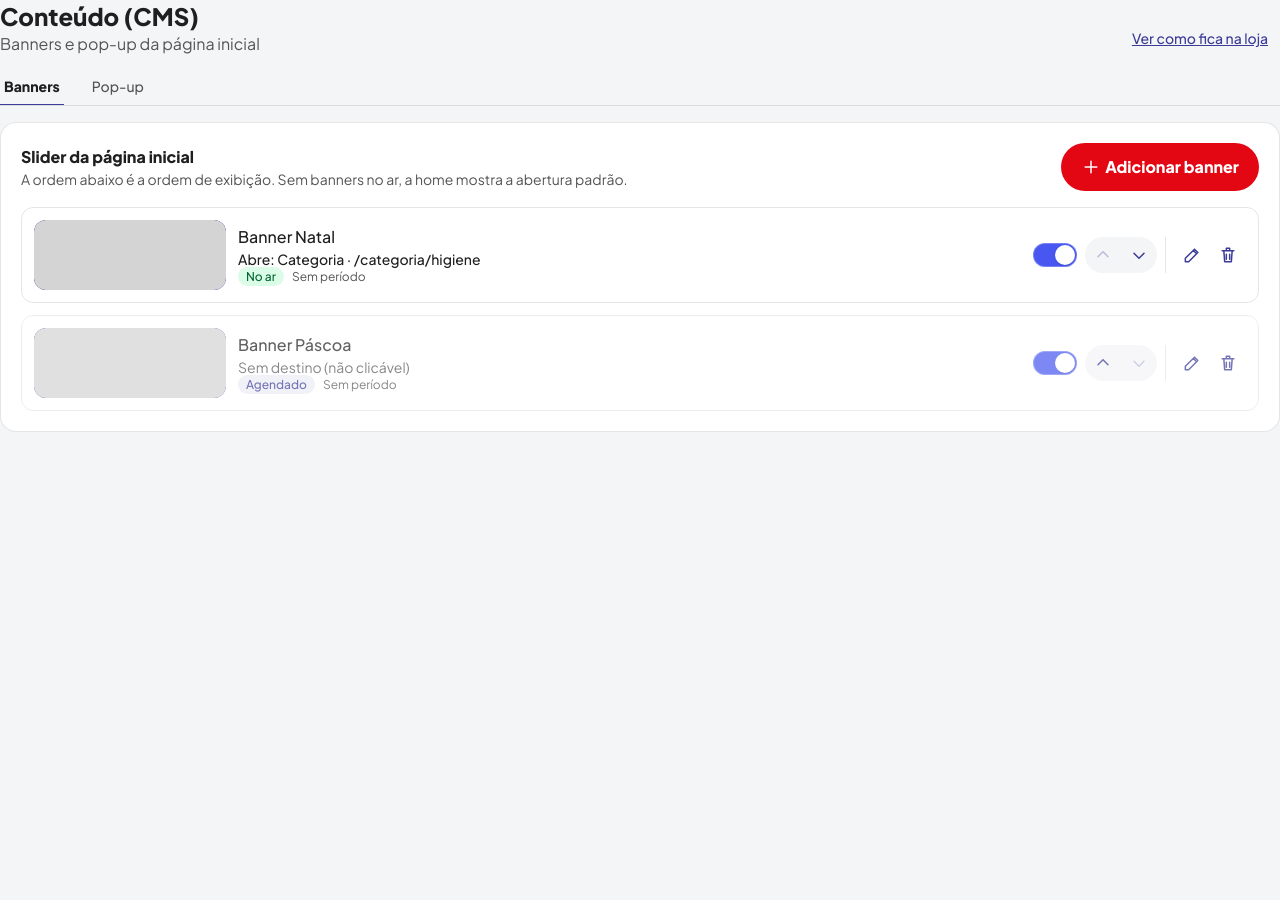
it: CMS: pop-up › situação Desligado ao lado do título
Click the tab "Pop-up": click(118, 91) [88,76,148,106]
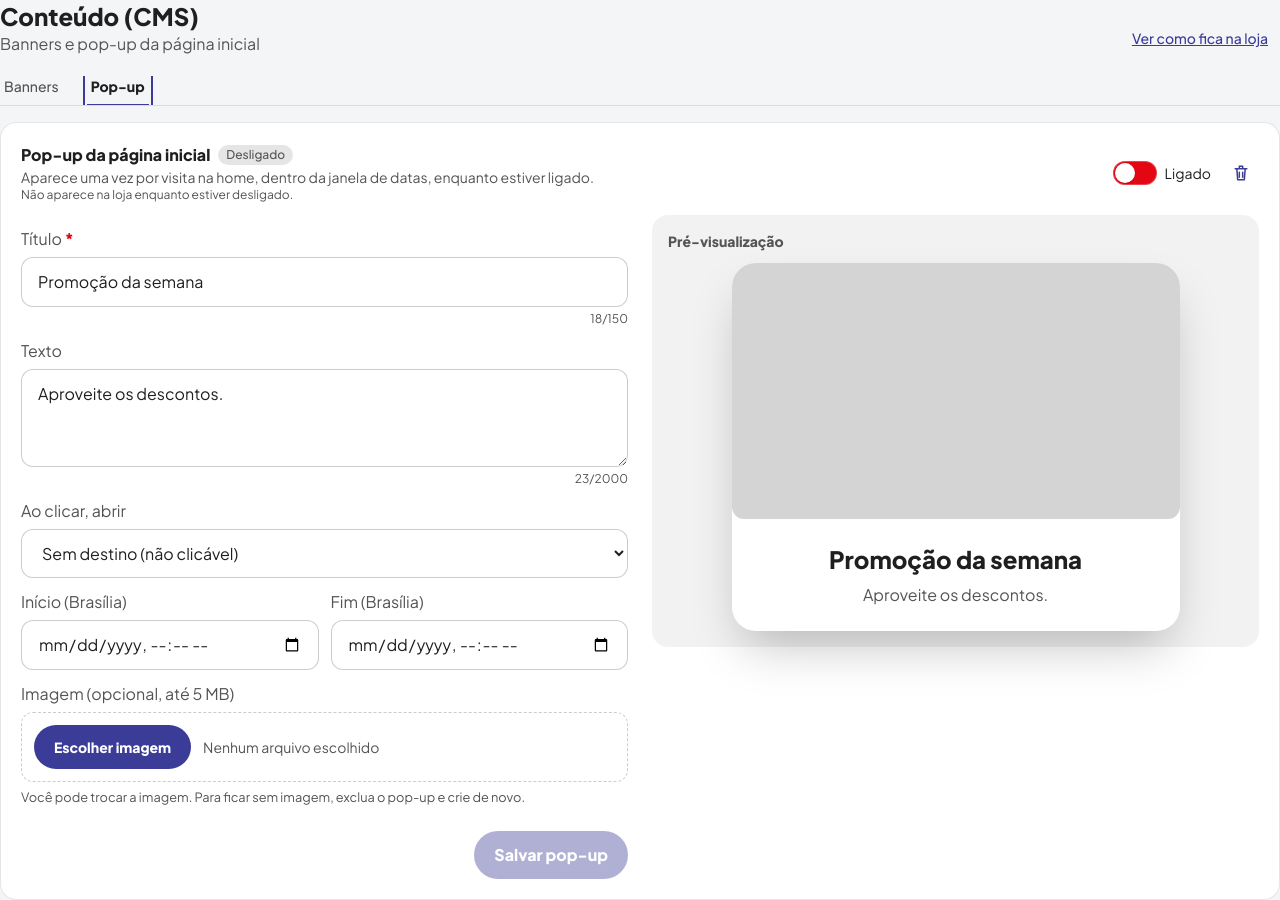
Now the heading "Pop-up da página inicial" is shown, box [21,143,210,167]
Now the text "Desligado" is shown, box [218,145,293,165]
Now the text "Não aparece na loja enquanto estiver desligado." is shown, box [21,187,293,202]
